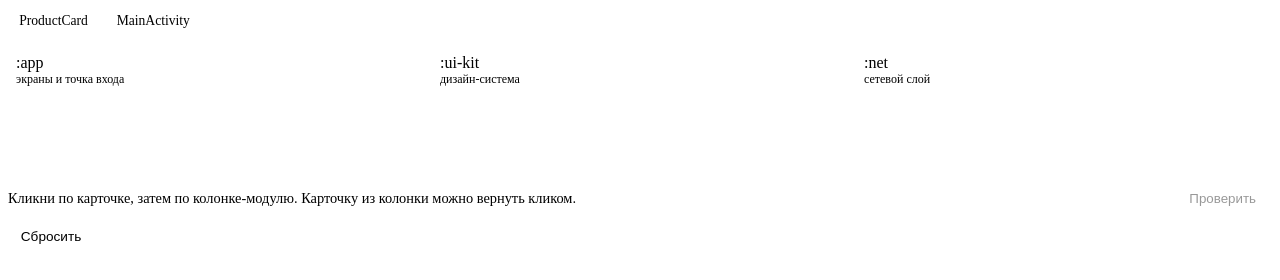
wrong placement shows explanation, records result, gives no xp
Click the button "ProductCard". click: click(54, 21)
box: [8,8,99,34]
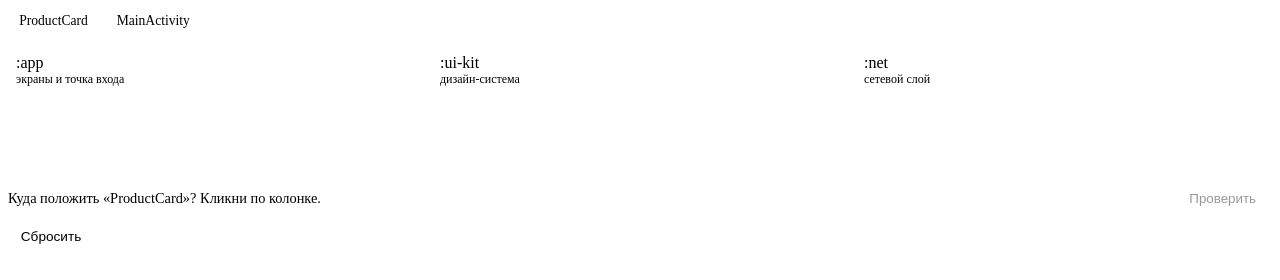
Click the button ":app экраны и точка входа". click: click(70, 70)
box: [16,54,124,86]
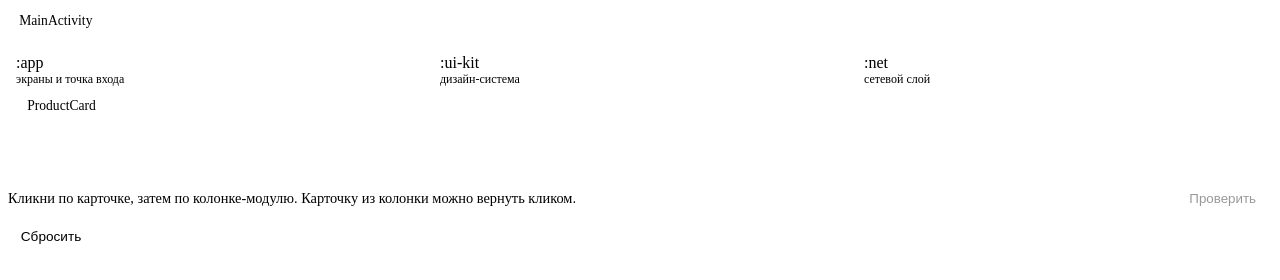
Click the button "MainActivity". click: click(56, 21)
box: [8,8,104,34]
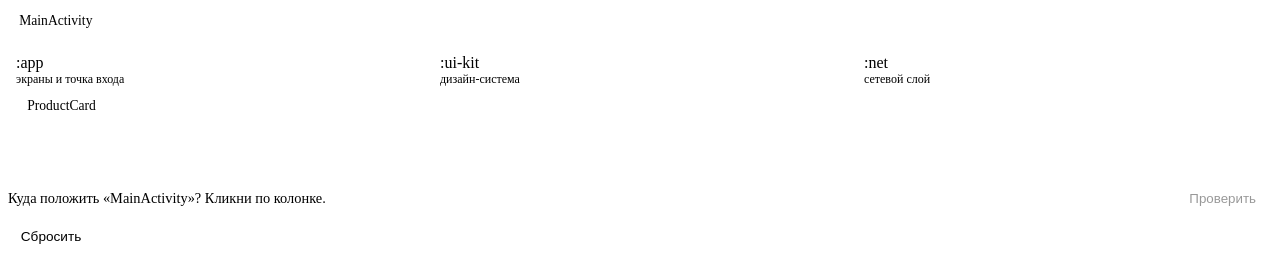
Click the text ":app". click: click(70, 70)
box: [16,54,124,87]
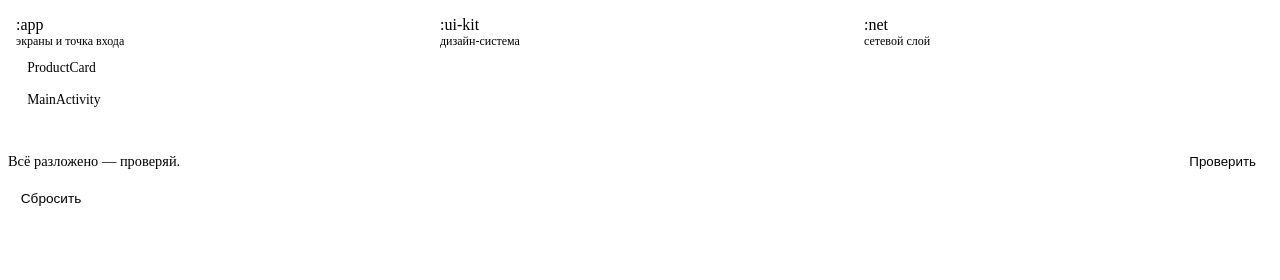
Click the button "Проверить". click: click(1223, 161)
box: [1173,148,1272,174]
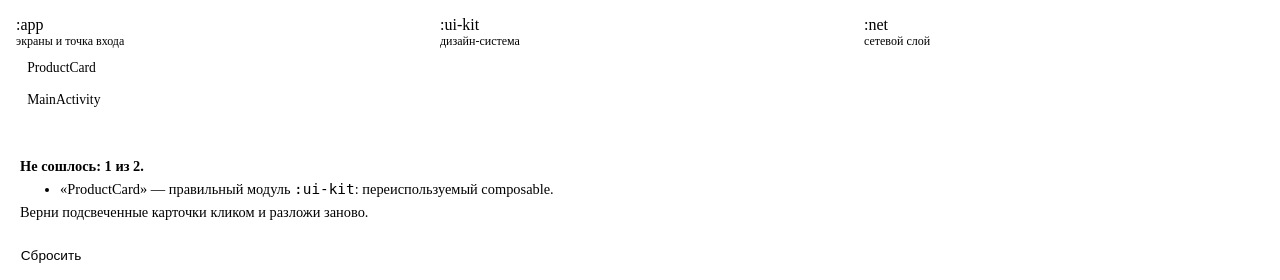
Result: the text "Не сошлось: 1 из 2." is shown at [20,158,144,174]
Result: the list item "переиспользуемый composable" is shown at [362,181,550,197]
